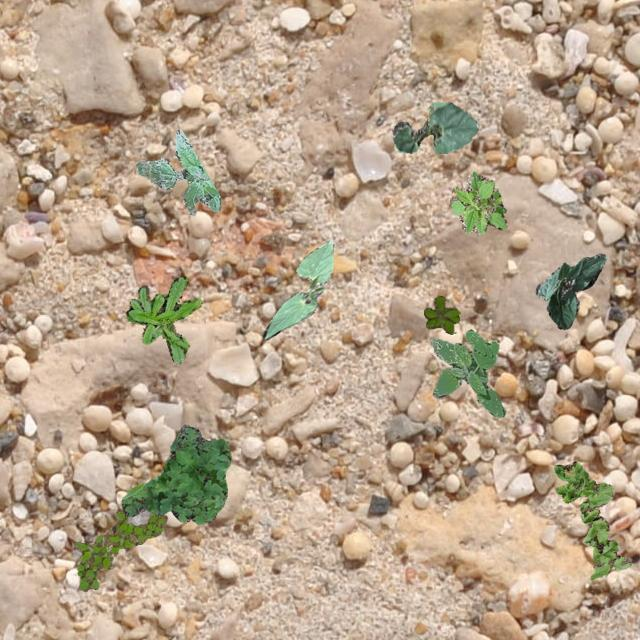crop: (262, 240, 332, 338), (534, 252, 604, 328), (392, 101, 478, 152)
weed: (120, 423, 230, 522), (552, 461, 630, 578), (74, 510, 166, 590), (136, 128, 220, 214), (124, 276, 200, 362), (430, 328, 504, 416), (448, 170, 506, 233), (422, 294, 458, 334)
